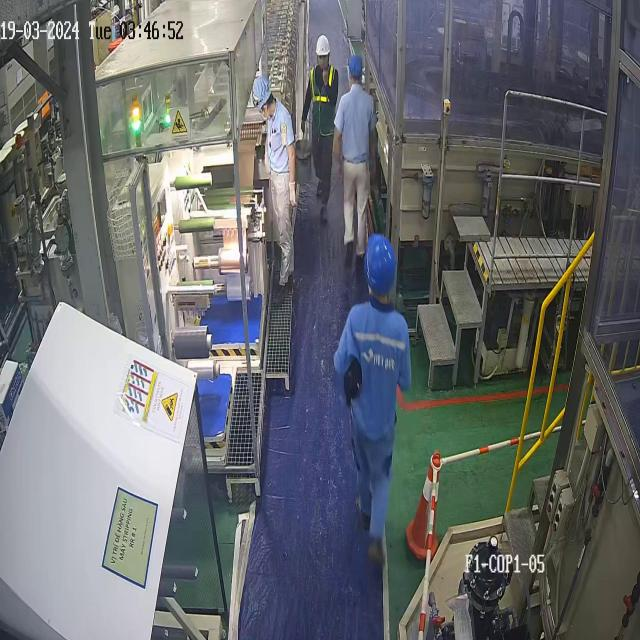Person: (333, 232, 412, 568), (252, 75, 298, 286), (332, 54, 378, 262), (300, 34, 339, 222)
